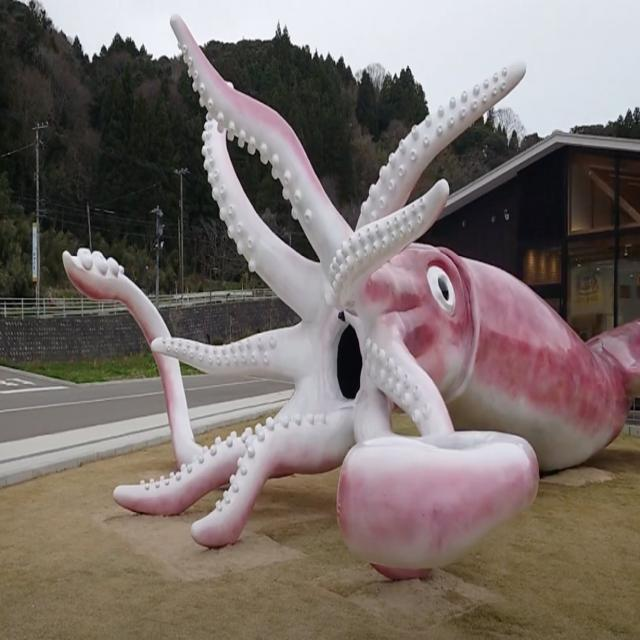squid: (62, 14, 639, 577)
